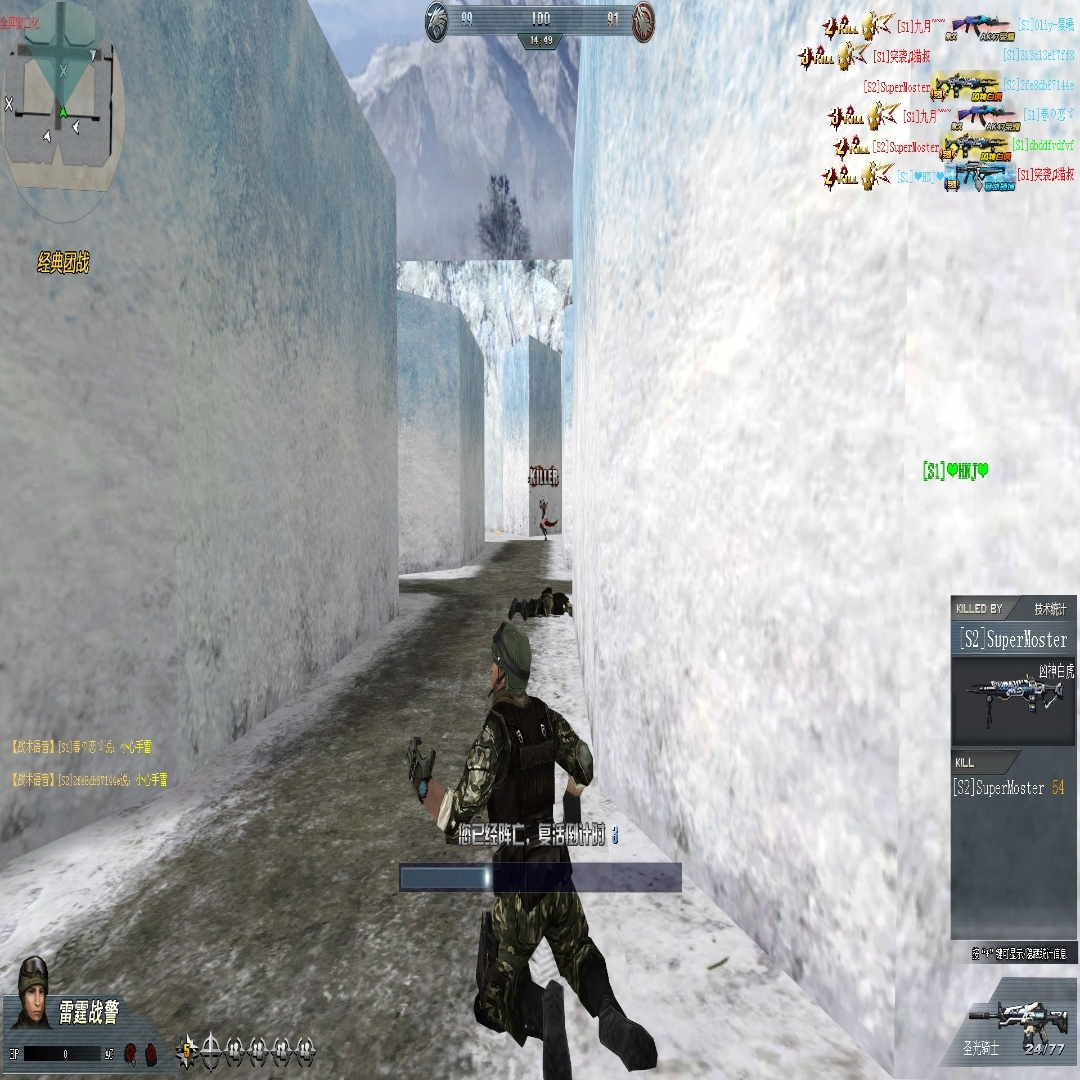t: (539, 497, 553, 538)
